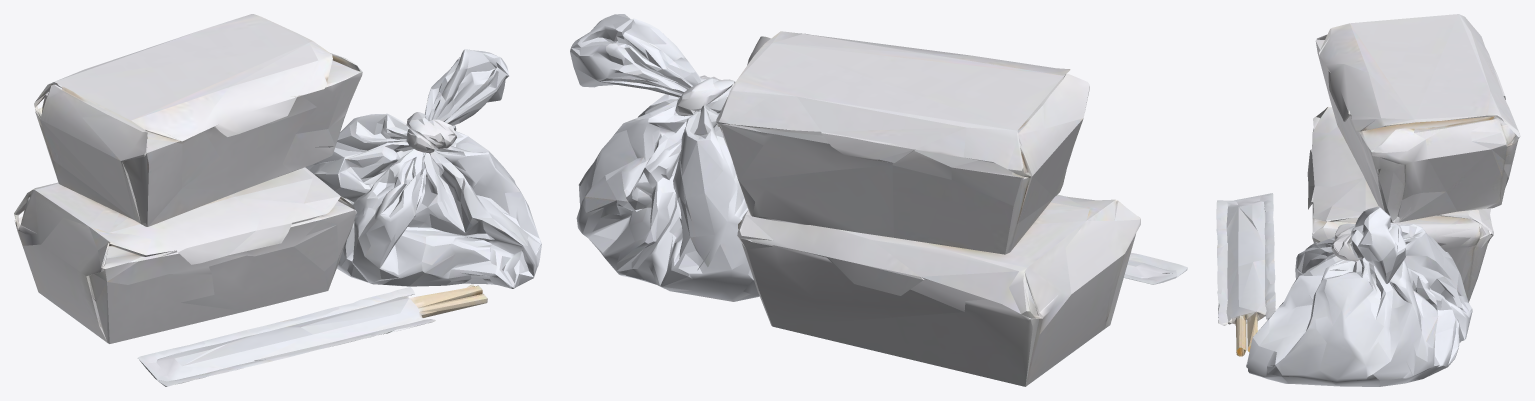
The model's file is w51takeaway.glb.
The picture shows the model from 3 angles, left to right: view 1: azimuth 30°, elevation 25°; view 2: azimuth 150°, elevation 25°; view 3: azimuth 270°, elevation 25°; orthographic projection. The views are drawn at different scales.
Visible parts, largest first — view 1: output_unwrapped; view 2: output_unwrapped; view 3: output_unwrapped.
Part boxes in pixels (bbox=[...]): output_unwrapped: bbox=[14, 14, 541, 386]; output_unwrapped: bbox=[570, 14, 1187, 386]; output_unwrapped: bbox=[1216, 14, 1520, 386].
Size of the model in its own units: 0.22 by 0.0998 by 0.1378.
Materials: 1 (1 with a texture image).
